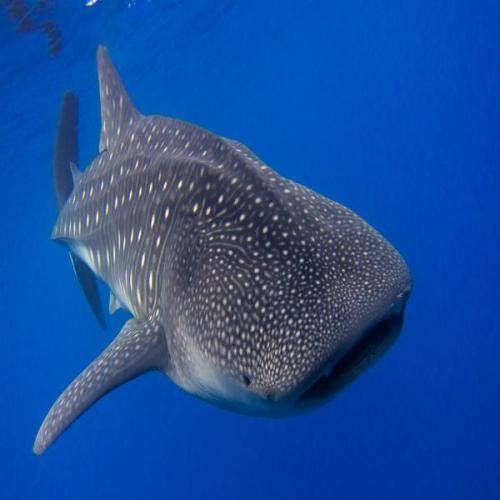shark-endangered: (32, 45, 412, 454)
